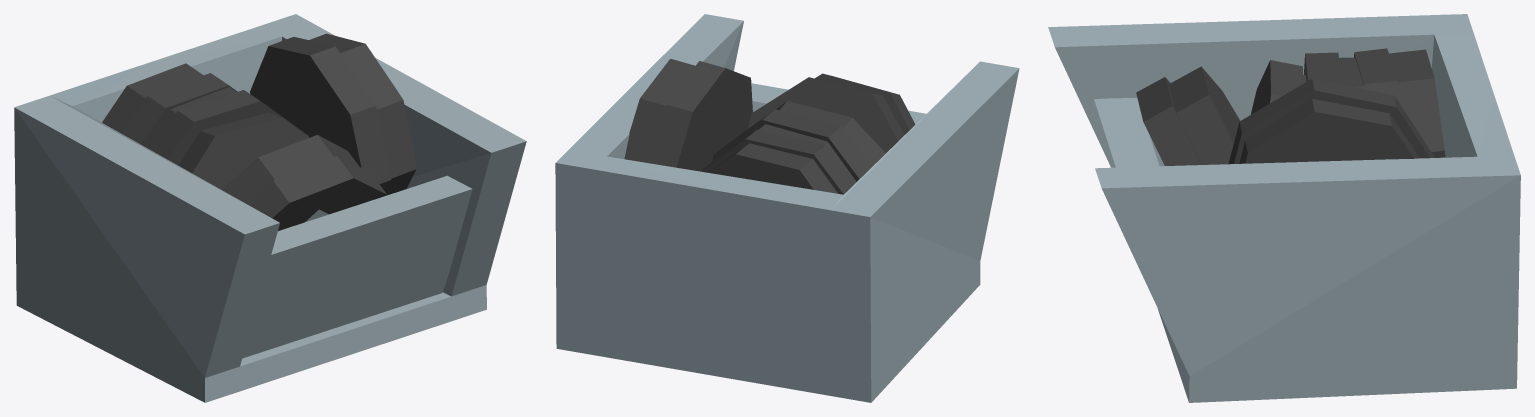
The model's file is coverset.glb.
3 views of the same model, side by side, from view 1: azimuth 30°, elevation 25°; view 2: azimuth 150°, elevation 25°; view 3: azimuth 270°, elevation 25° (orthographic). The views are drawn at different scales.
Parts seen in each view (by area): view 1: coverset; view 2: coverset; view 3: coverset.
Boxes of the visible parts, x1,y1,x2,y2 form: coverset: (14, 14, 526, 402); coverset: (555, 14, 1019, 402); coverset: (1048, 14, 1520, 402).
Bounding box in the file's own units: 0.3092 × 0.2137 × 0.3406.
